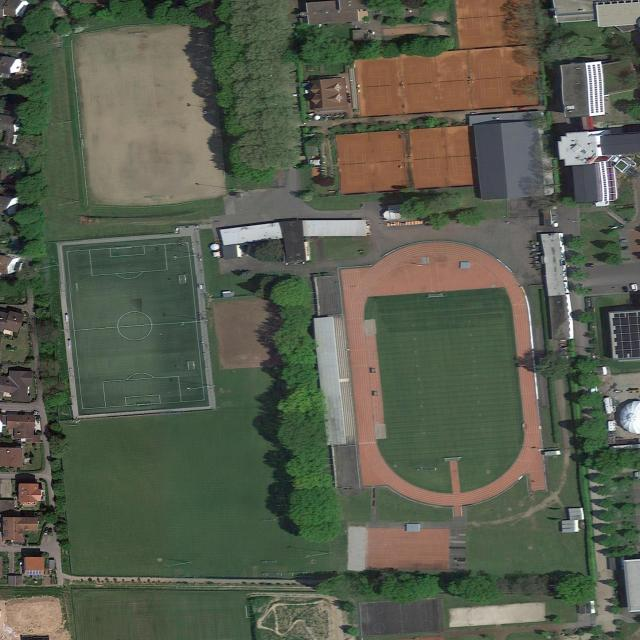small-vehicle: (631, 282, 638, 292), (43, 526, 50, 535), (622, 285, 629, 293), (620, 246, 630, 251), (516, 107, 527, 111), (584, 263, 594, 267), (619, 239, 628, 242)
